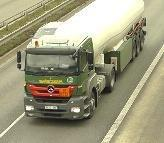Truck: (17, 0, 147, 120)
